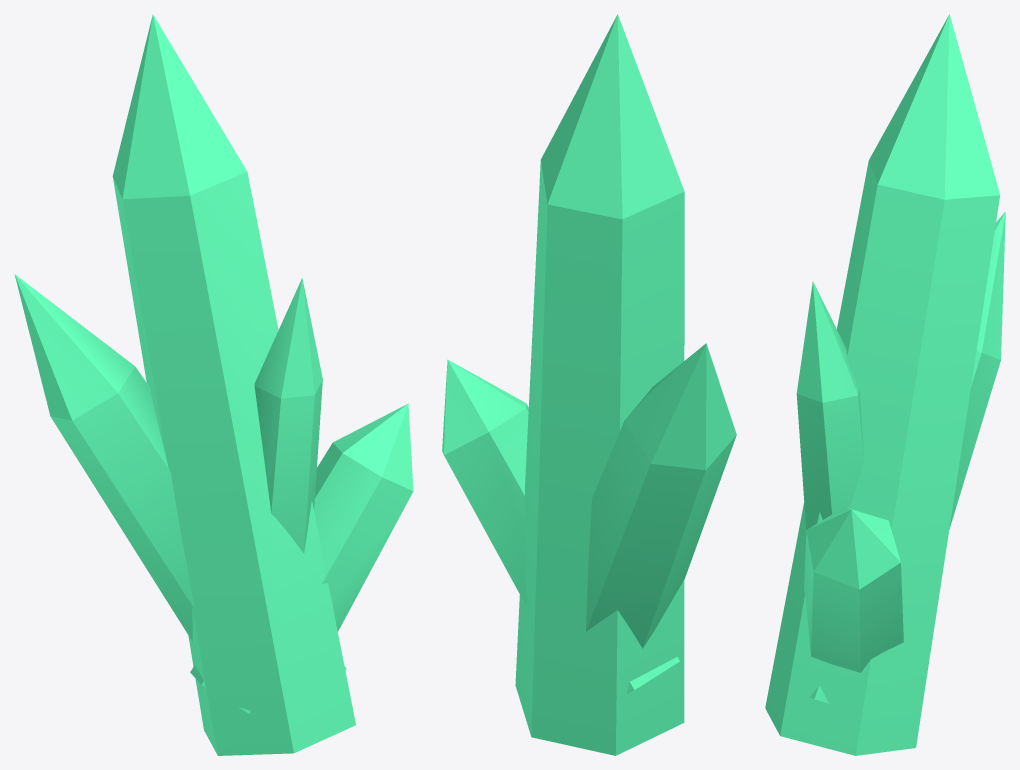
File: obj_deco_cristales_2.glb
3 views of the same model, side by side, from view 1: azimuth 30°, elevation 25°; view 2: azimuth 150°, elevation 25°; view 3: azimuth 270°, elevation 25° (orthographic). The views are drawn at different scales.
Parts seen in each view (by area): view 1: propforge-libre-deco_cristales; view 2: propforge-libre-deco_cristales; view 3: propforge-libre-deco_cristales.
Boxes of the visible parts, x1,y1,x2,y2 form: propforge-libre-deco_cristales: (14,14,413,755); propforge-libre-deco_cristales: (442,14,736,755); propforge-libre-deco_cristales: (765,14,1005,755).
Size of the model in its own units: 0.2686 by 0.5712 by 0.1797.
